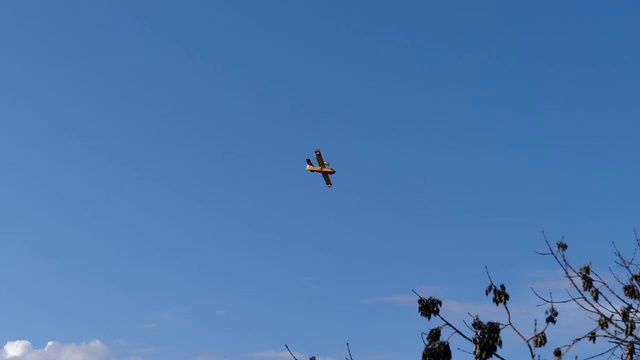plane: (304, 148, 336, 188)
